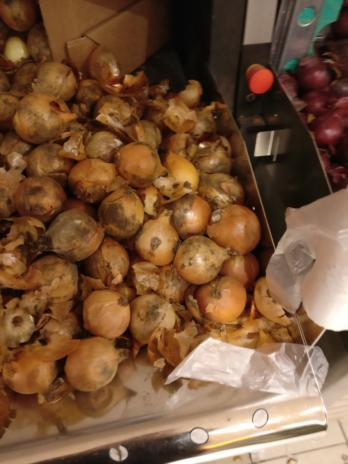Onion: (2, 51, 243, 395)
